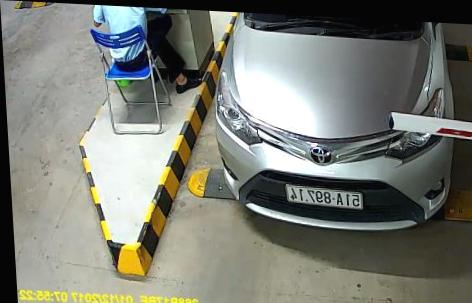License_Plate: (284, 182, 364, 210)
